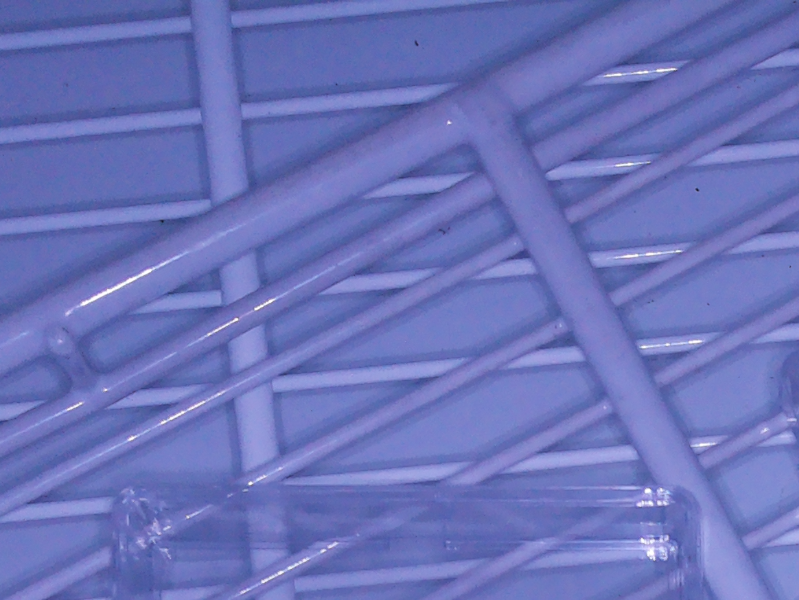plate: (107, 481, 705, 600)
